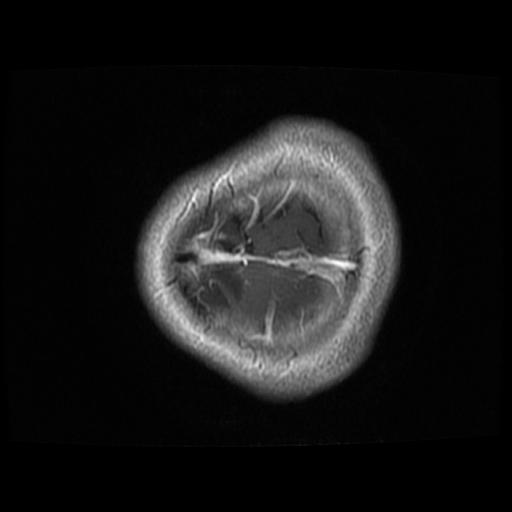glioma: (178, 213, 247, 314)
